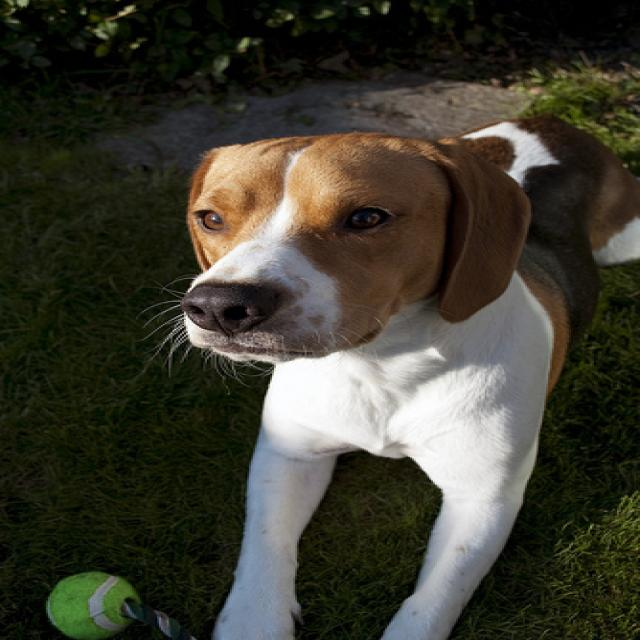dog-beagle: (125, 111, 636, 637)
